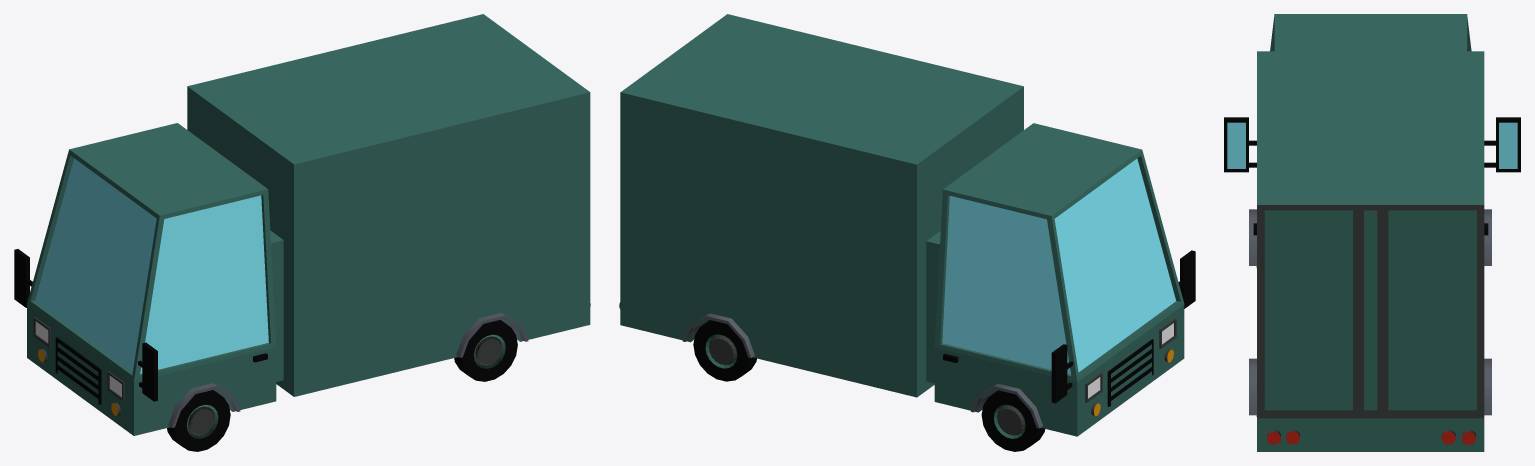
Rendered from car6B.FBX.
The picture shows the model from 3 angles, left to right: view 1: azimuth 30°, elevation 25°; view 2: azimuth 150°, elevation 25°; view 3: azimuth 270°, elevation 25°; orthographic projection. The views are drawn at different scales.
Visible parts, largest first — view 1: car6B; view 2: car6B; view 3: car6B.
Part boxes in pixels (bbox=[...]): car6B: bbox=[14, 14, 590, 451]; car6B: bbox=[619, 14, 1195, 451]; car6B: bbox=[1224, 14, 1520, 451].
Size of the model in its own units: 12.53 by 6.81 by 6.53.
